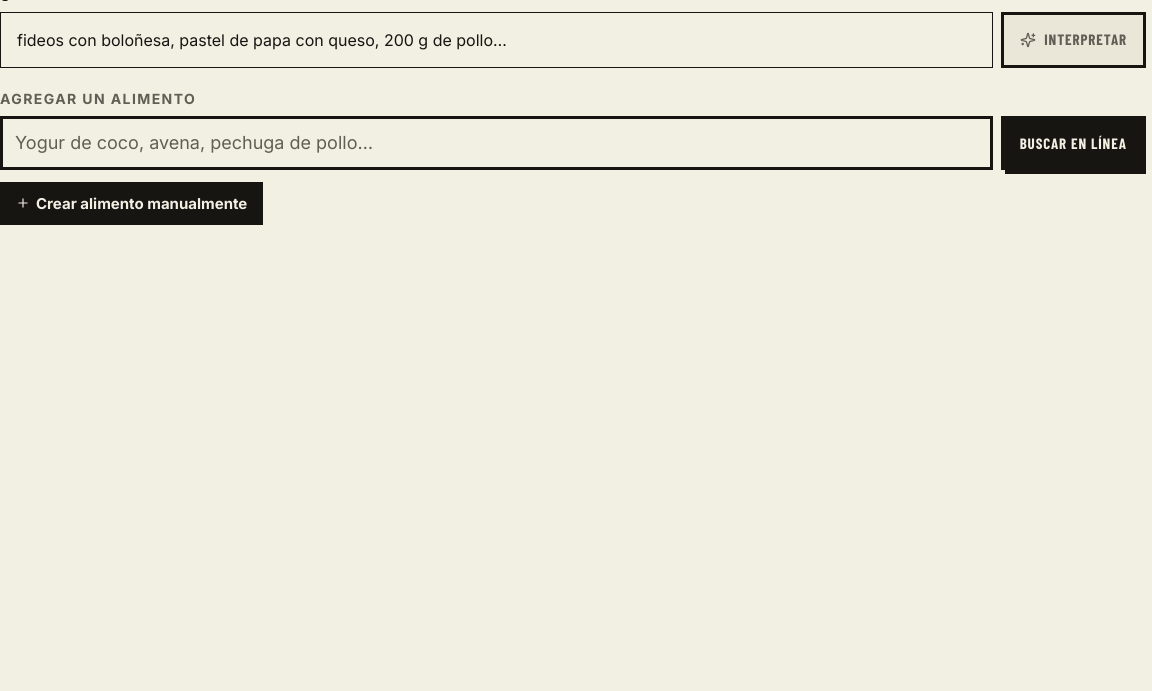
Revisión de comida — plato + composición antes de guardar › "fideos con boloñesa y queso rallado" reconoce el tipo y no pregunta
In the field labelled "Qué vas a comer": (497, 40) [0,12,993,68], type "fideos con boloñesa y queso rallado"
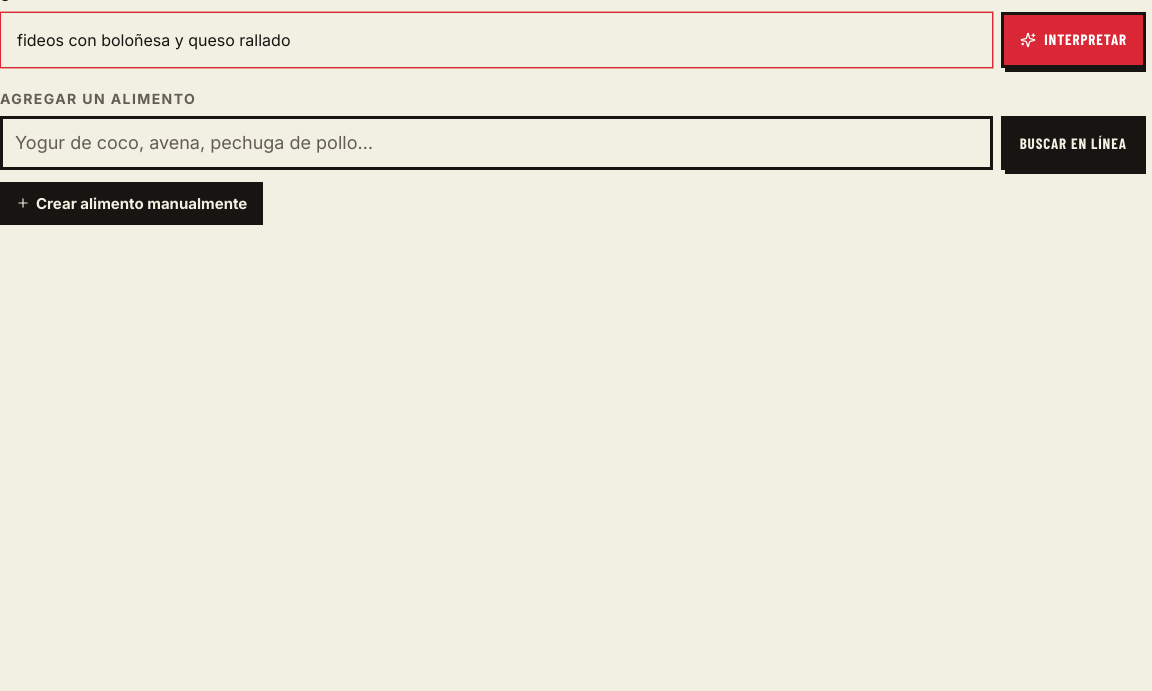
Click the button "Interpretar": (1074, 40) [1001,12,1146,68]
(page scrolled)
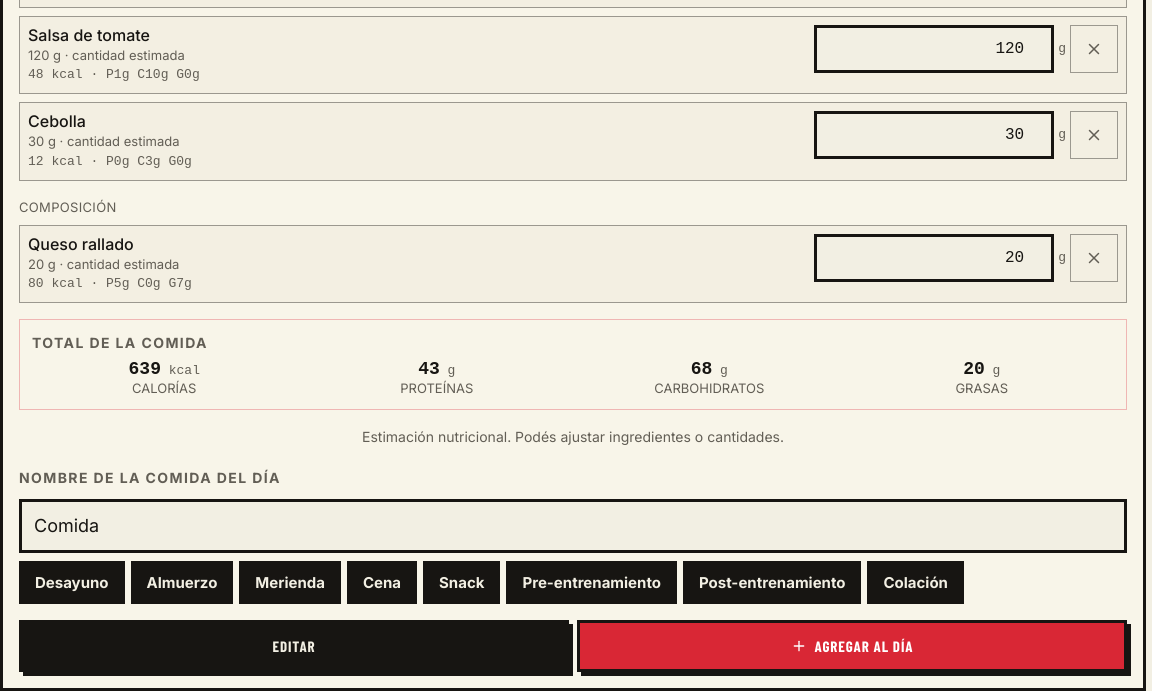
Check: the text "Queso rallado" is shown, box [28,234,134,254]
Check: the button with test id "dish-save" is enabled, box [577,620,1127,672]
